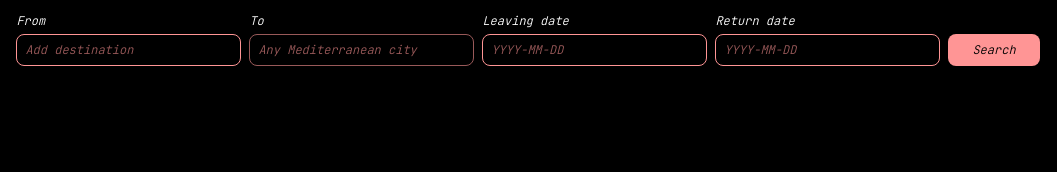
Scenario: SearchForm › shows validation errors on empty submit
Click the button: (994, 50) [948,34,1040,66]
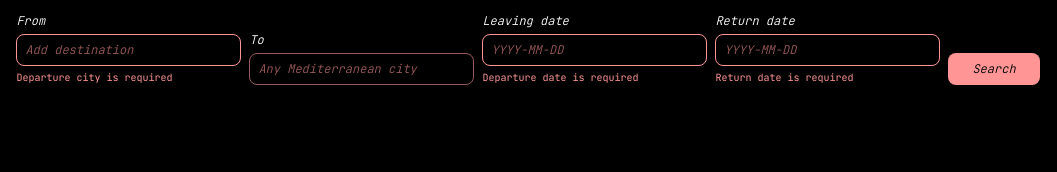
expect the message "Departure city is required" is shown: met, box [16,71,172,84]
